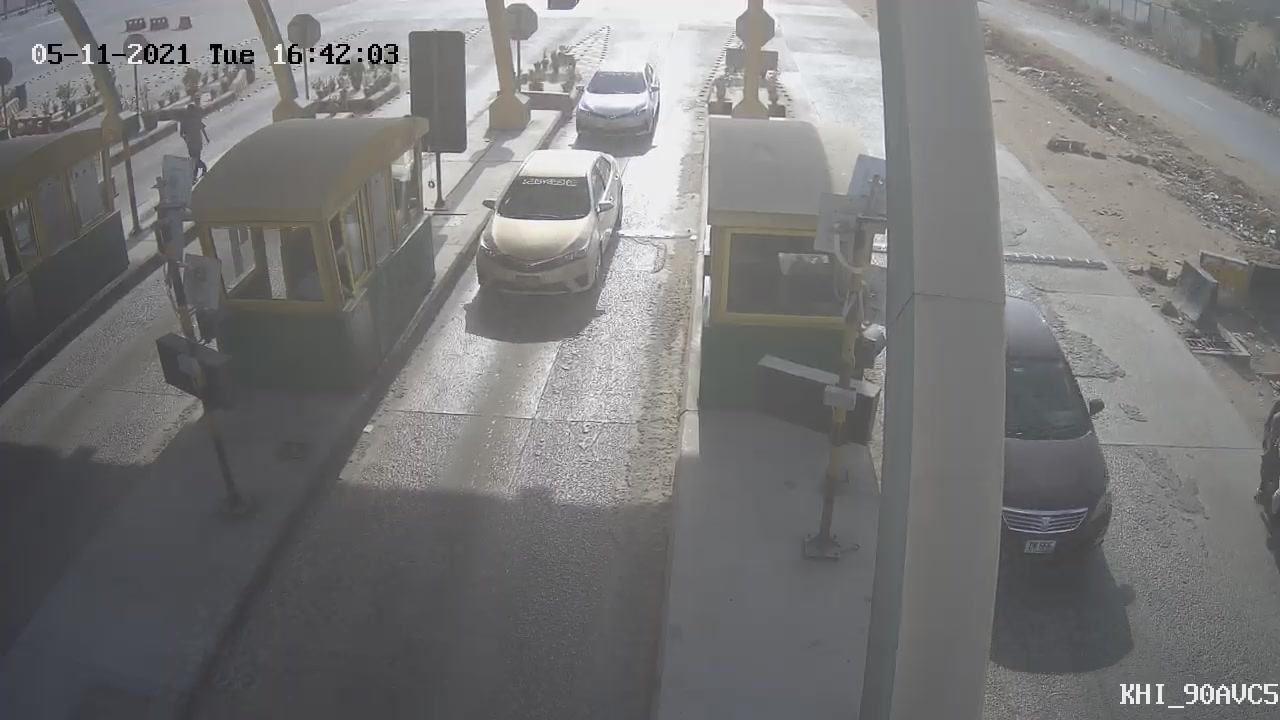F1: (465, 131, 642, 325), (560, 49, 679, 159)
